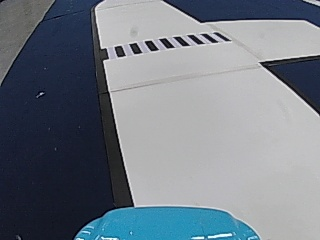CrossWalk: (104, 31, 227, 58)
